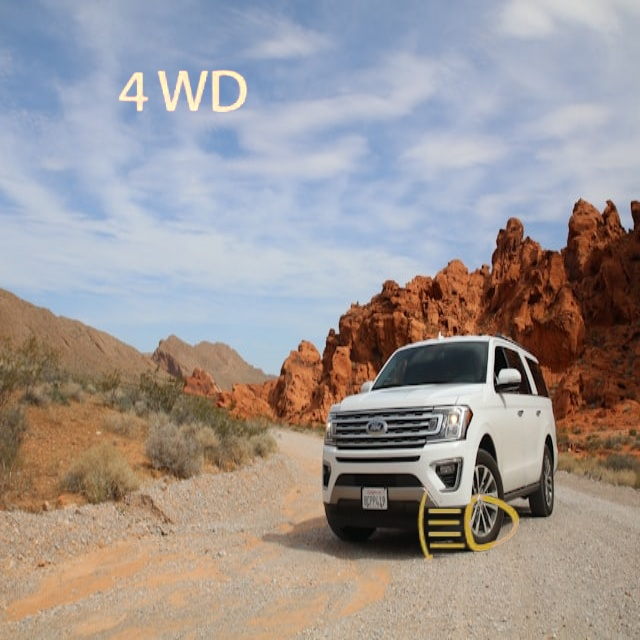symbol: (101, 12, 263, 174), (393, 444, 547, 598)
